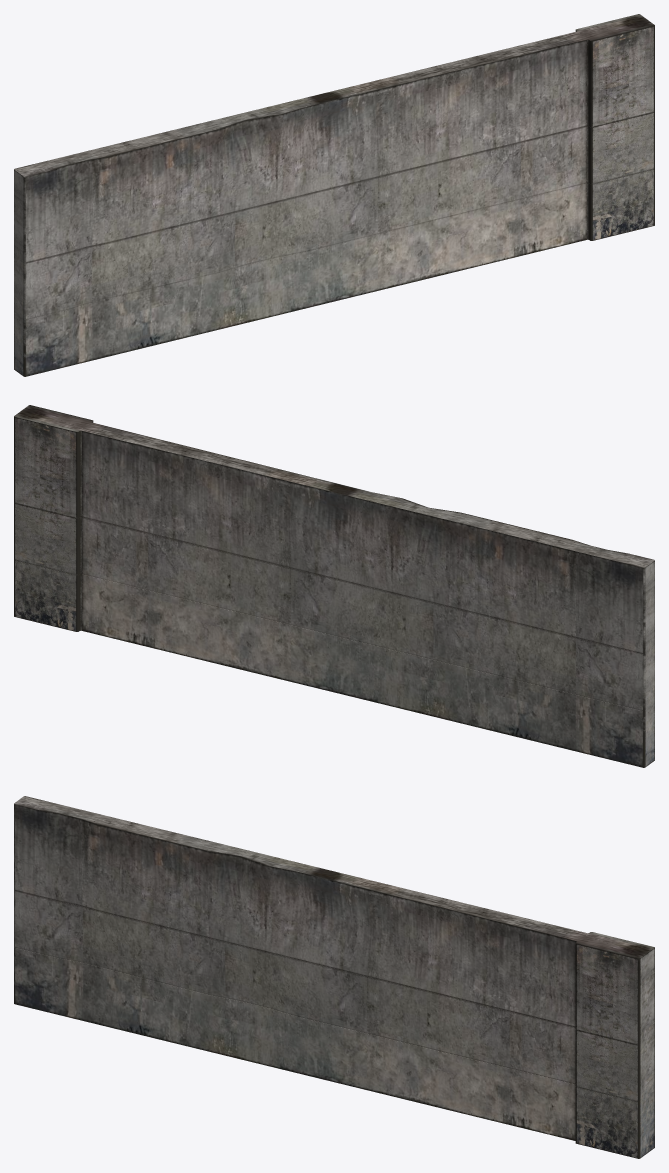
Rendered from SM_CheckpointWall.glb.
The picture shows the model from 3 angles, top to bottom: view 1: azimuth 30°, elevation 25°; view 2: azimuth 150°, elevation 25°; view 3: azimuth 330°, elevation 25°; orthographic projection.
Parts seen in each view (by area): view 1: SM_CheckpointWall; view 2: SM_CheckpointWall; view 3: SM_CheckpointWall.
Part boxes in pixels (x1=…): SM_CheckpointWall: x1=14, y1=14, x2=654, y2=376; SM_CheckpointWall: x1=14, y1=405, x2=654, y2=767; SM_CheckpointWall: x1=14, y1=796, x2=654, y2=1158.
Size of the model in its own units: 13.15 by 4 by 0.5839.
Materials: 1 (1 with a texture image).
